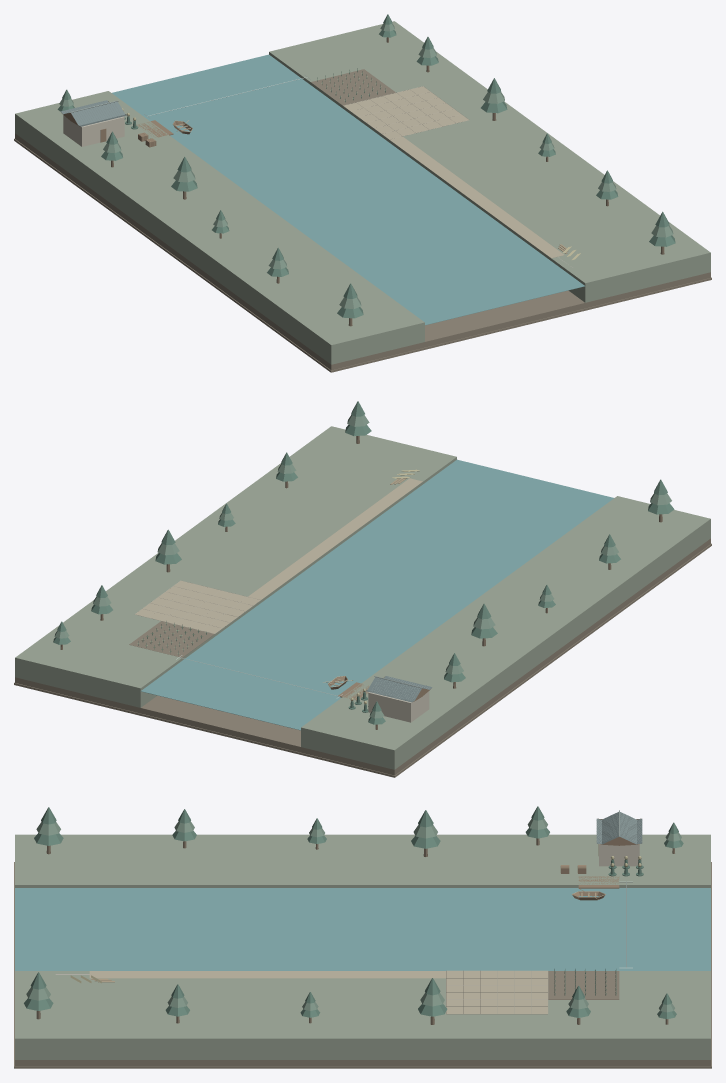
Rendered from reed-bay.glb.
3 renders of one model, top to bottom at view 1: azimuth 30°, elevation 25°; view 2: azimuth 150°, elevation 25°; view 3: azimuth 270°, elevation 25°, orthographic. The views are drawn at different scales.
Visible parts, largest first — view 1: ground, water, vegetation, architecture, roofs, details; view 2: ground, water, vegetation, architecture, roofs; view 3: ground, water, vegetation, roofs, details, grid, architecture.
Boxes of the visible parts, <box> form: ground: <box>14,21,711,372</box>; water: <box>112,54,584,325</box>; vegetation: <box>57,14,675,326</box>; architecture: <box>63,115,124,146</box>; roofs: <box>60,100,127,126</box>; details: <box>100,120,572,267</box>; ground: <box>14,426,711,777</box>; water: <box>141,459,613,730</box>; vegetation: <box>53,401,674,729</box>; architecture: <box>368,691,429,722</box>; roofs: <box>365,676,432,702</box>; ground: <box>14,834,711,1068</box>; water: <box>15,888,710,970</box>; vegetation: <box>24,806,683,1024</box>; roofs: <box>596,810,642,845</box>; details: <box>55,844,619,974</box>; grid: <box>446,970,548,1013</box>; architecture: <box>599,844,639,866</box>.
Bounding box in the file's own units: 43.43 × 7.53 × 62.64.
